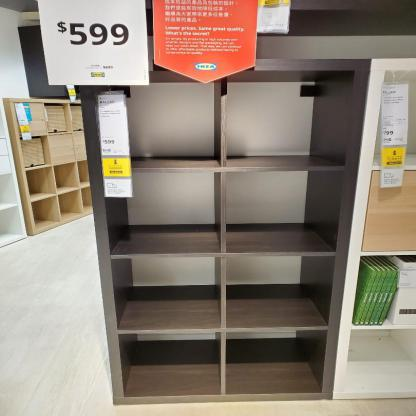lamp: (79, 58, 372, 406), (331, 56, 415, 403), (1, 95, 138, 240)
